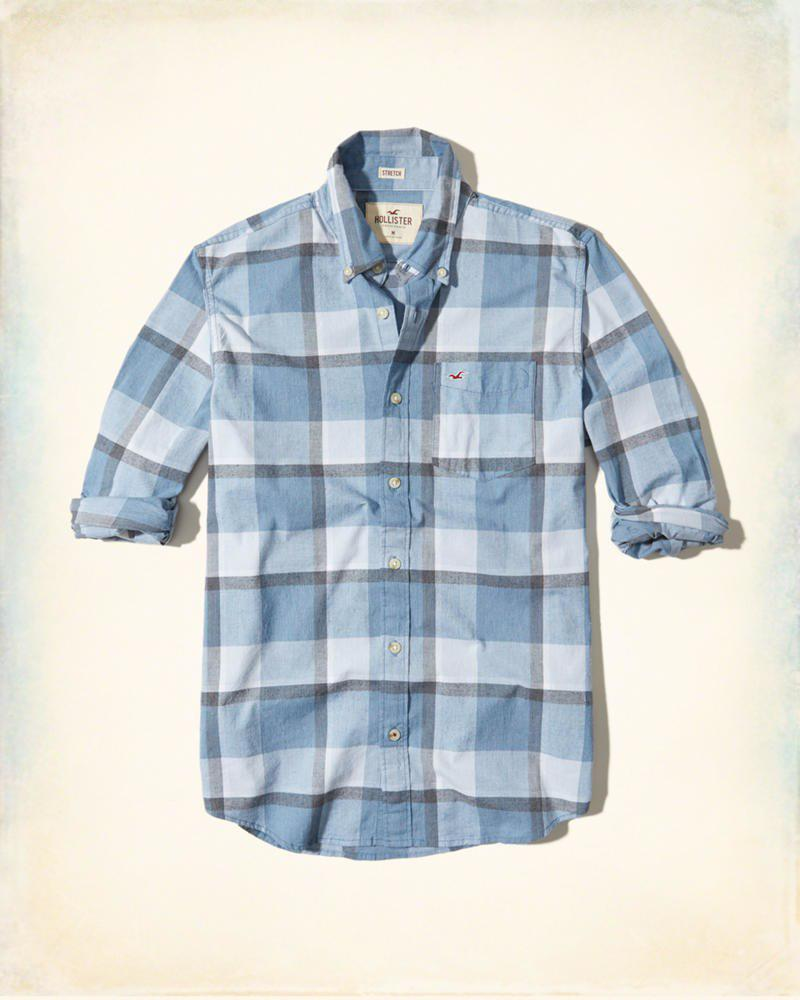teeshirt: (62, 121, 735, 872)
